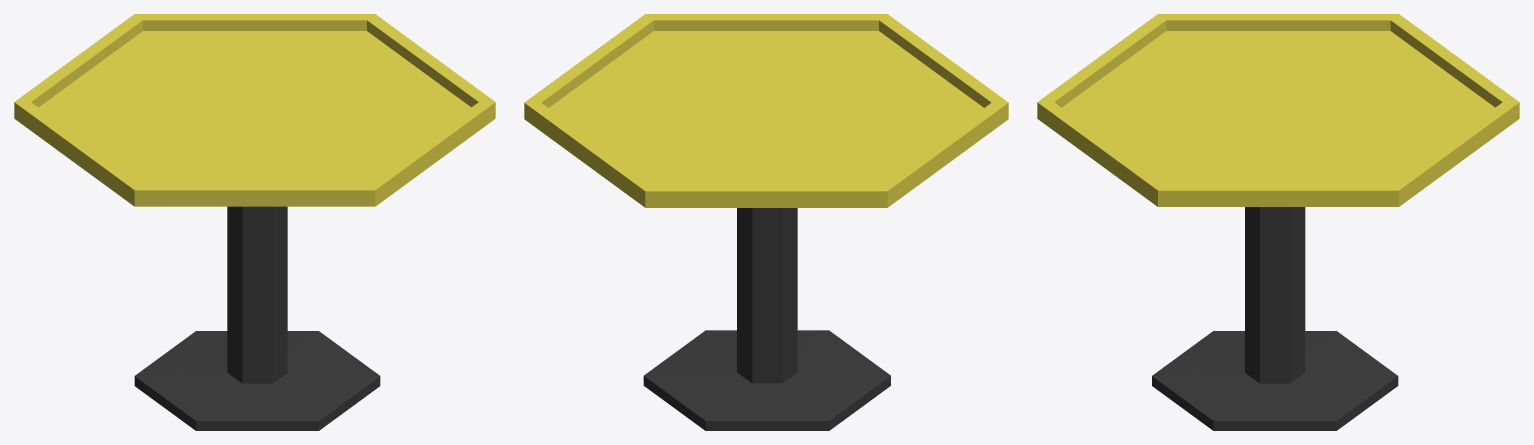
Rendered from HiveTable.fbx.
3 renders of one model, left to right at view 1: azimuth 30°, elevation 25°; view 2: azimuth 150°, elevation 25°; view 3: azimuth 270°, elevation 25°, orthographic.
Visible parts, largest first — view 1: Cylinder.012, Cylinder.045; view 2: Cylinder.012, Cylinder.045; view 3: Cylinder.012, Cylinder.045.
Boxes of the visible parts, box(x1,y1,x2,y2) form: Cylinder.012: box(14, 14, 495, 206); Cylinder.045: box(134, 206, 380, 430); Cylinder.012: box(524, 14, 1008, 207); Cylinder.045: box(643, 208, 890, 430); Cylinder.012: box(1037, 14, 1519, 206); Cylinder.045: box(1152, 207, 1398, 430).
Bounding box in the file's own units: 42.31 × 31.66 × 48.85.
